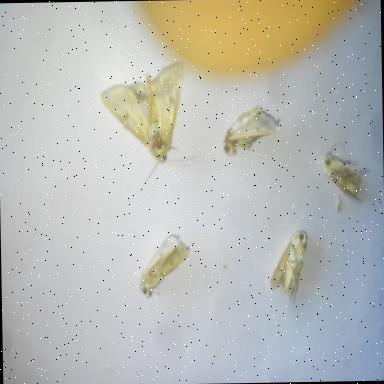abw: (98, 56, 205, 200), (136, 229, 198, 304), (264, 225, 313, 310), (320, 138, 378, 207), (219, 101, 285, 161)
